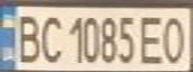0: (81, 11, 100, 64)
1: (63, 11, 84, 64)
5: (115, 11, 139, 64)
8: (100, 11, 121, 64)
B: (12, 10, 42, 64)
C: (36, 11, 63, 64)
E: (136, 11, 169, 65)
O: (157, 11, 193, 65)
